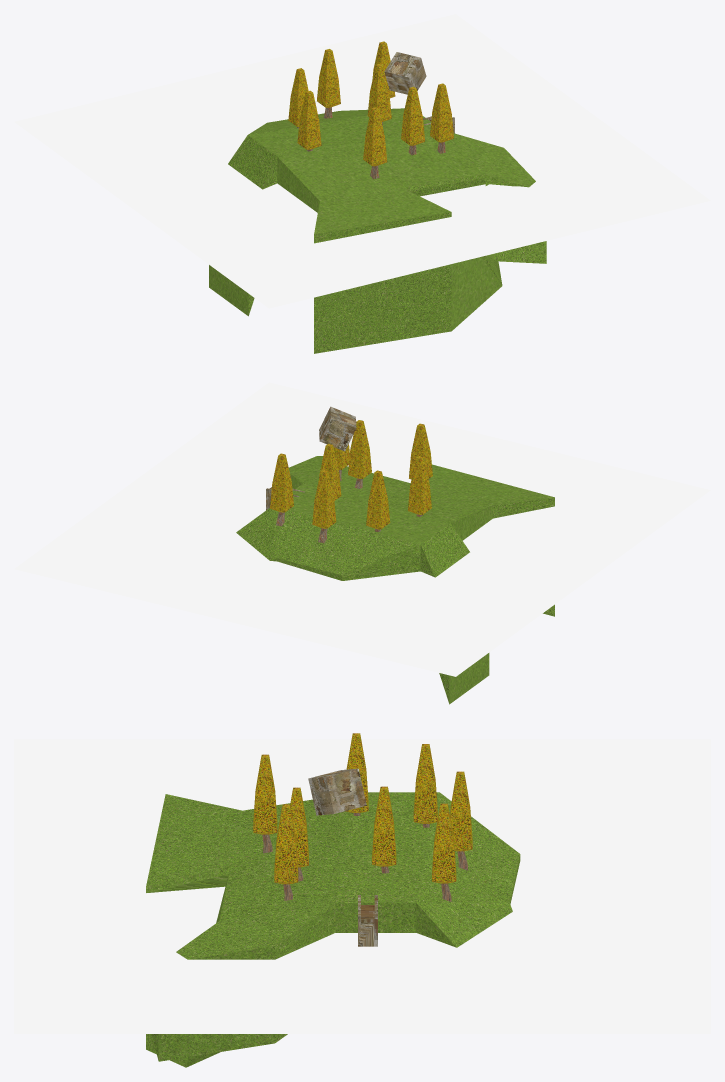
File: betalandscape2.glb
3 renders of one model, top to bottom at view 1: azimuth 30°, elevation 25°; view 2: azimuth 150°, elevation 25°; view 3: azimuth 270°, elevation 25°, orthographic. The views are drawn at different scales.
Parts seen in each view (by area): view 1: Water, Cube.003, Cube.011, Cube.005, Cube.002, Cube.007, Cube.004, Cube.006, Cube.009, Cube.008; view 2: Water, Cube.003, Cube.011, Cube.007, Cube.010, Cube.004, Cube.006, Cube.008, Cube.005, Cube.009; view 3: Water, Cube.003, Cube.011, Cube.005, Cube.010, Cube.002, Cube.009, Cube.007, Cube.008, Cube.004, Main, Cube.006.
Part boxes in pixels (bbox=[...]): Water: bbox=[14, 14, 710, 308]; Cube.003: bbox=[209, 108, 546, 353]; Cube.011: bbox=[384, 52, 426, 94]; Cube.005: bbox=[363, 107, 387, 179]; Cube.002: bbox=[430, 83, 453, 153]; Cube.007: bbox=[317, 49, 340, 118]; Cube.004: bbox=[401, 86, 424, 155]; Cube.006: bbox=[297, 90, 321, 151]; Cube.009: bbox=[367, 63, 391, 125]; Cube.008: bbox=[288, 68, 308, 128]; Water: bbox=[14, 382, 710, 676]; Cube.003: bbox=[236, 456, 554, 704]; Cube.011: bbox=[319, 406, 356, 451]; Cube.007: bbox=[312, 469, 336, 542]; Cube.010: bbox=[270, 453, 293, 526]; Cube.004: bbox=[348, 420, 371, 488]; Cube.006: bbox=[407, 456, 431, 516]; Cube.008: bbox=[366, 470, 390, 531]; Cube.005: bbox=[409, 423, 432, 479]; Cube.009: bbox=[319, 443, 341, 500]; Water: bbox=[14, 739, 710, 1033]; Cube.003: bbox=[146, 792, 520, 1067]; Cube.011: bbox=[308, 768, 366, 815]; Cube.005: bbox=[253, 754, 277, 853]; Cube.010: bbox=[432, 803, 456, 901]; Cube.002: bbox=[274, 804, 298, 900]; Cube.009: bbox=[372, 786, 396, 873]; Cube.007: bbox=[450, 771, 472, 870]; Cube.008: bbox=[413, 744, 437, 827]; Cube.004: bbox=[290, 787, 308, 881]; Main: bbox=[358, 895, 377, 946]; Cube.006: bbox=[345, 733, 368, 815].
Bounding box in the file's own units: 150 × 72.45 × 150.
5 materials, 4 textured.
